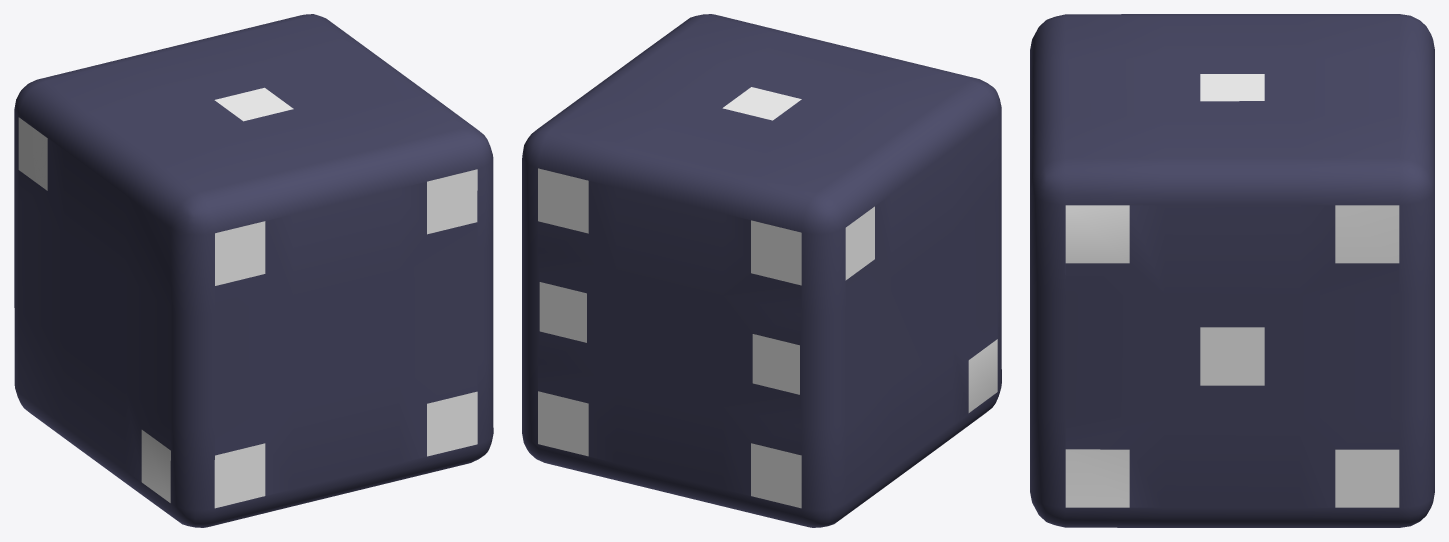
File: RockDice.fbx
3 renders of one model, left to right at view 1: azimuth 30°, elevation 25°; view 2: azimuth 150°, elevation 25°; view 3: azimuth 270°, elevation 25°, orthographic. The views are drawn at different scales.
Parts seen in each view (by area): view 1: RockDice; view 2: RockDice; view 3: RockDice.
Boxes of the visible parts, x1,y1,x2,y2 form: RockDice: (14,14,493,527); RockDice: (522,14,1001,527); RockDice: (1030,14,1434,527).
Size of the model in its own units: 200 by 200 by 200.
